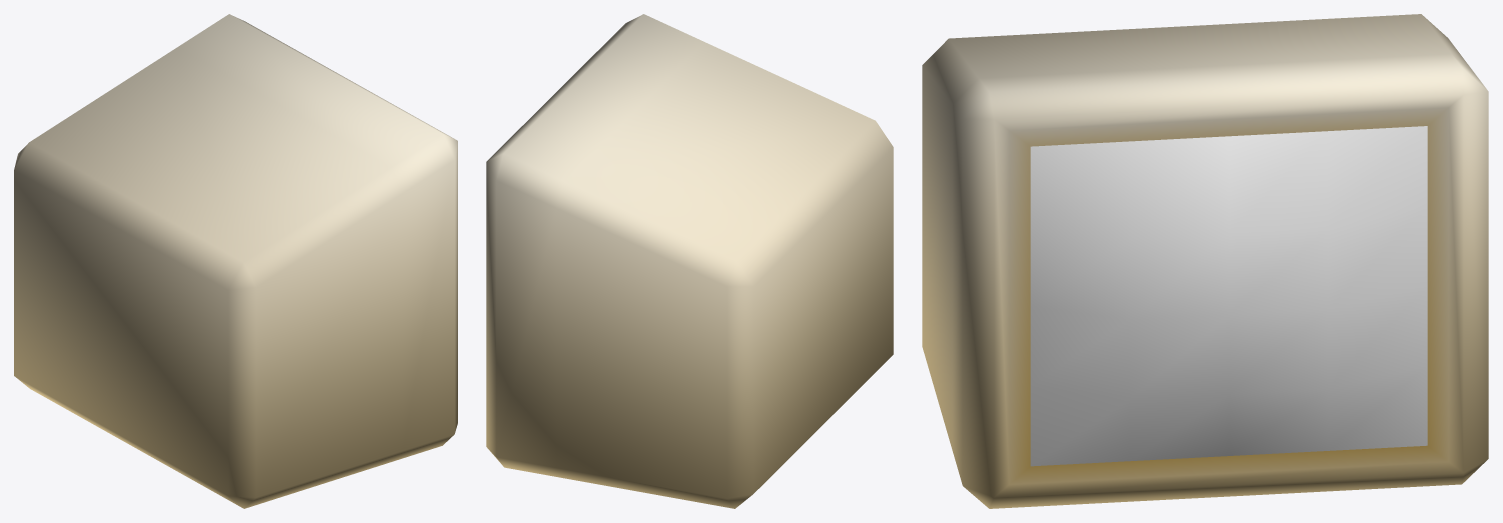
The model's file is Computer.fbx.
3 views of the same model, side by side, from view 1: azimuth 30°, elevation 25°; view 2: azimuth 150°, elevation 25°; view 3: azimuth 270°, elevation 25° (orthographic). The views are drawn at different scales.
Parts seen in each view (by area): view 1: Computer; view 2: Computer; view 3: Computer.
Part boxes in pixels (bbox=[...]): Computer: bbox=[14, 14, 457, 508]; Computer: bbox=[486, 14, 893, 508]; Computer: bbox=[922, 14, 1488, 508].
Bounding box in the file's own units: 0.5319 × 0.5407 × 0.6549.
